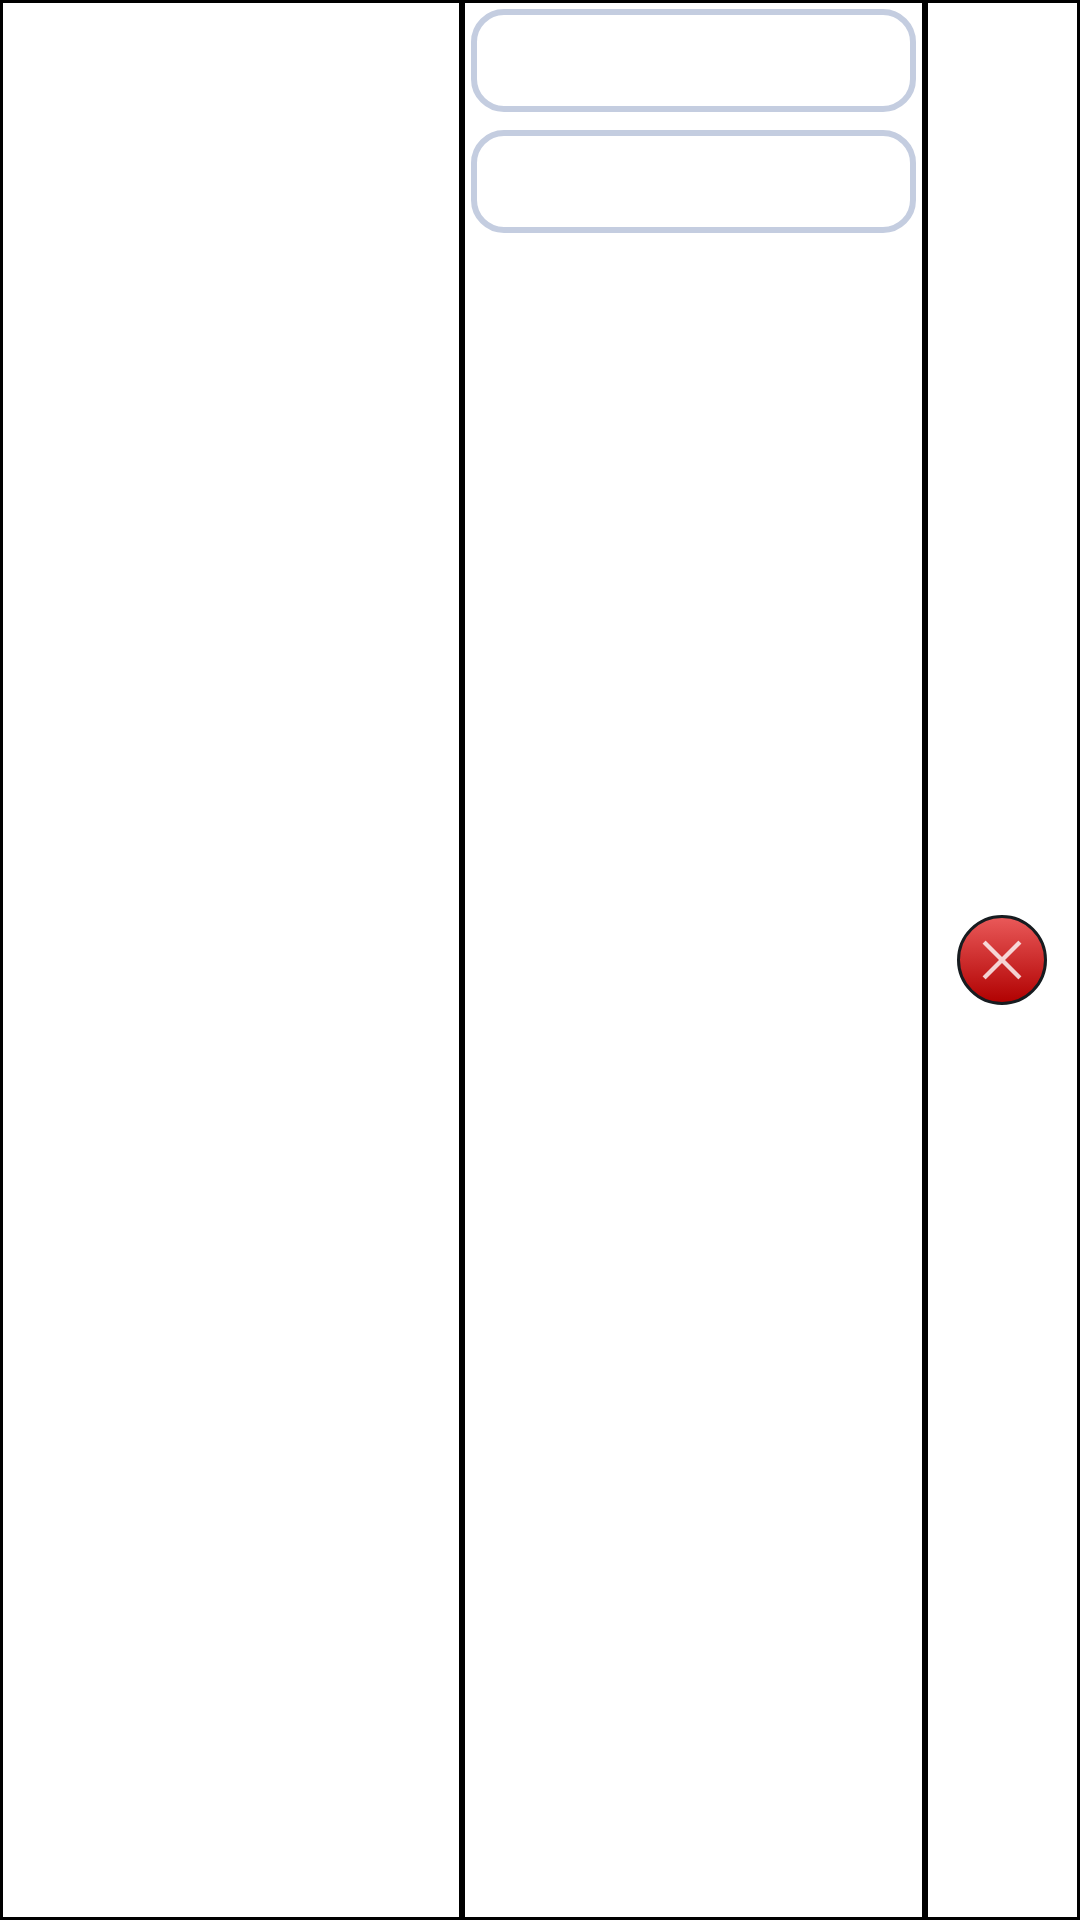

Named icons in this screenshot (1080*1920) and their bounding boxes, (x1, y1, x2, y2):
delete: (957, 915, 1047, 1005)
